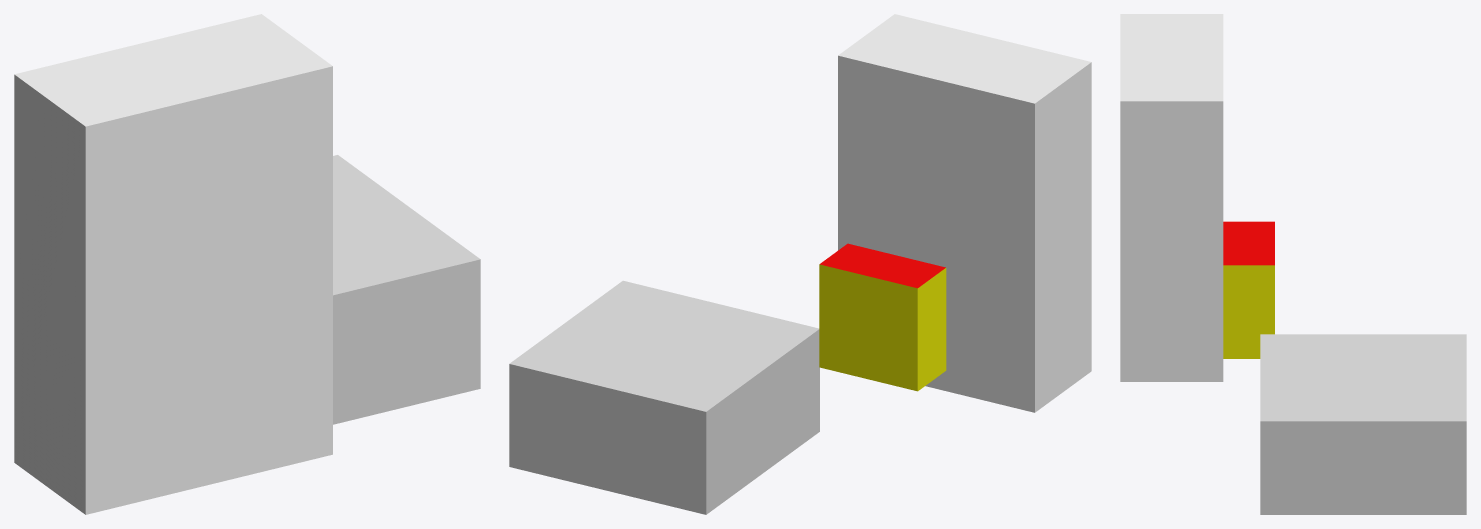
The model's file is test.asc.fbx.
The picture shows the model from 3 angles, left to right: view 1: azimuth 30°, elevation 25°; view 2: azimuth 150°, elevation 25°; view 3: azimuth 270°, elevation 25°; orthographic projection. The views are drawn at different scales.
Parts seen in each view (by area): view 1: Box001, Box003; view 2: Box001, Box003, Box002; view 3: Box001, Box003, Box002.
Boxes of the visible parts, box(x1,y1,x2,y2) form: Box001: box(14, 14, 332, 514); Box003: box(333, 155, 480, 424); Box001: box(838, 14, 1091, 412); Box003: box(509, 280, 819, 514); Box002: box(819, 243, 946, 391); Box001: box(1120, 14, 1223, 381); Box003: box(1260, 334, 1466, 514); Box002: box(1223, 221, 1274, 358).
Bounding box in the file's own units: 3.98 × 3.5 × 3.36.
